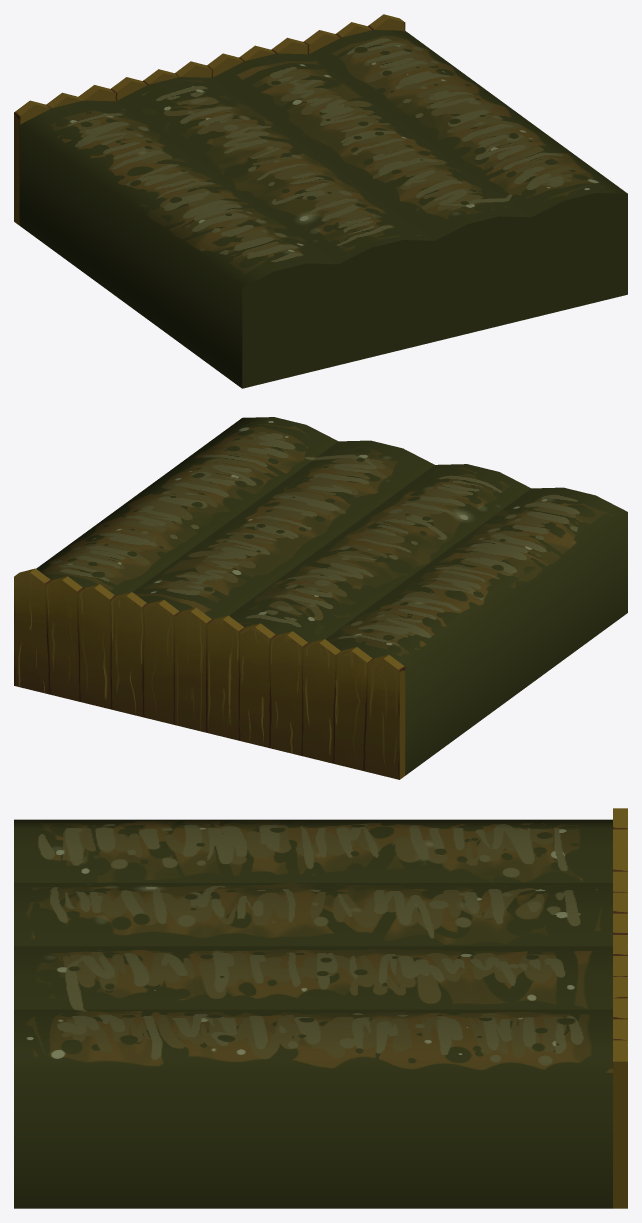
Rendered from canteiro.fbx.
The picture shows the model from 3 angles, top to bottom: view 1: azimuth 30°, elevation 25°; view 2: azimuth 150°, elevation 25°; view 3: azimuth 270°, elevation 25°; orthographic projection. The views are drawn at different scales.
Visible parts, largest first — view 1: Cube.004, Cube.005; view 2: Cube.004, Cube.005; view 3: Cube.004, Cube.005.
Boxes of the visible parts, bbox=[...] form: Cube.004: bbox=[19, 30, 627, 388]; Cube.005: bbox=[14, 14, 405, 225]; Cube.004: bbox=[36, 417, 627, 775]; Cube.005: bbox=[14, 568, 405, 779]; Cube.004: bbox=[14, 819, 612, 1208]; Cube.005: bbox=[613, 808, 627, 1208].
Bounding box in the file's own units: 200 × 58.11 × 205.
2 materials, 2 textured.
